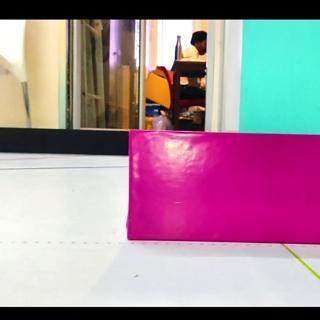xparking: (130, 134, 313, 242)
